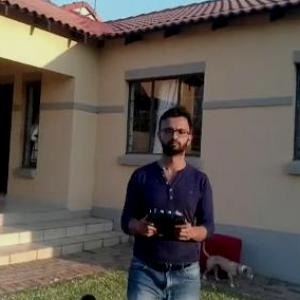follow: (111, 101, 220, 299)
null: (201, 245, 260, 293)
